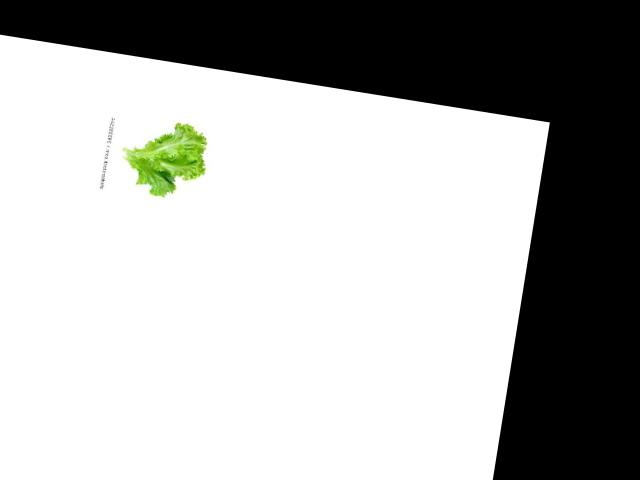lettuce: (110, 114, 213, 205)
